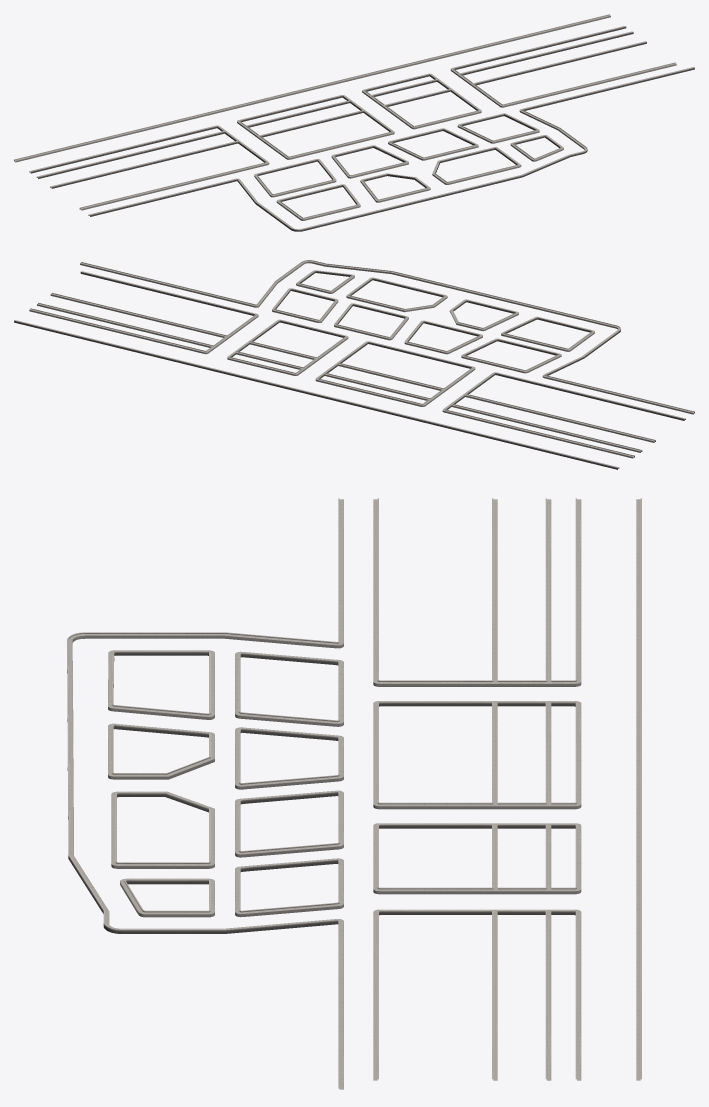
Rendered from map_02.fbx.
The picture shows the model from 3 angles, top to bottom: view 1: azimuth 30°, elevation 25°; view 2: azimuth 150°, elevation 25°; view 3: azimuth 270°, elevation 25°; orthographic projection. The views are drawn at different scales.
Visible parts, largest first — view 1: pCylinder301, pCylinder303, pCylinder249, pCylinder299, pCylinder252, pCylinder253, pCylinder250, pCylinder295, pCylinder297, pCylinder300, pCylinder319, pCylinder302 (+4 smaller); view 2: pCylinder301, pCylinder303, pCylinder253, pCylinder250, pCylinder252, pCylinder297, pCylinder300, pCylinder295, pCylinder319, pCylinder249, pCylinder302, pCylinder299 (+4 smaller); view 3: pCylinder301, pCylinder303, pCylinder252, pCylinder253, pCylinder297, pCylinder295, pCylinder249, pCylinder250, pCylinder300, pCylinder299, pCylinder319, pCylinder377.
Boxes of the visible parts, x1,y1,x2,y2 form: pCylinder301: [14, 14, 610, 162]; pCylinder303: [301, 175, 522, 231]; pCylinder249: [79, 162, 265, 210]; pCylinder299: [505, 62, 676, 106]; pCylinder252: [36, 131, 222, 178]; pCylinder253: [29, 126, 214, 173]; pCylinder250: [50, 141, 235, 188]; pCylinder295: [462, 31, 633, 75]; pCylinder297: [455, 26, 626, 69]; pCylinder300: [476, 41, 646, 84]; pCylinder319: [523, 67, 694, 110]; pCylinder302: [88, 178, 236, 216]; pCylinder301: [14, 320, 619, 469]; pCylinder303: [391, 271, 616, 328]; pCylinder253: [446, 410, 634, 458]; pCylinder250: [467, 394, 655, 442]; pCylinder252: [454, 404, 642, 452]; pCylinder297: [29, 308, 202, 353]; pCylinder300: [50, 292, 224, 337]; pCylinder295: [37, 302, 210, 347]; pCylinder319: [80, 262, 253, 306]; pCylinder249: [498, 373, 685, 420]; pCylinder302: [543, 375, 694, 414]; pCylinder299: [80, 271, 253, 315]; pCylinder301: [636, 498, 641, 1080]; pCylinder303: [67, 639, 73, 855]; pCylinder252: [545, 498, 551, 678]; pCylinder253: [575, 498, 581, 678]; pCylinder297: [575, 913, 581, 1080]; pCylinder295: [545, 913, 551, 1080]; pCylinder249: [373, 498, 378, 678]; pCylinder250: [492, 498, 497, 678]; pCylinder300: [492, 913, 497, 1080]; pCylinder299: [373, 913, 378, 1080]; pCylinder319: [338, 922, 343, 1089]; pCylinder377: [85, 632, 225, 638].
Bounding box in the file's own units: 1383 × 4.57 × 569.
